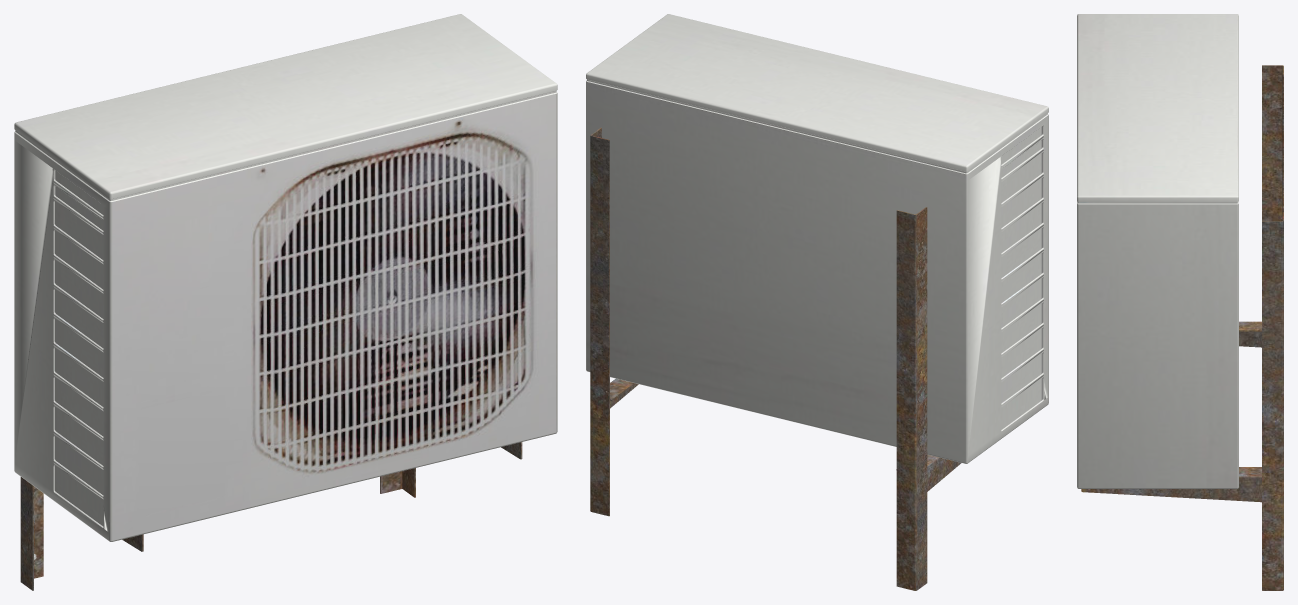
The model's file is OutdoorUnit_Wall_003.fbx.
The picture shows the model from 3 angles, left to right: view 1: azimuth 30°, elevation 25°; view 2: azimuth 150°, elevation 25°; view 3: azimuth 270°, elevation 25°; orthographic projection. The views are drawn at different scales.
Parts seen in each view (by area): view 1: OutdoorUnit_Wall_003; view 2: OutdoorUnit_Wall_003; view 3: OutdoorUnit_Wall_003.
Boxes of the visible parts, left/top/right/bottom form: OutdoorUnit_Wall_003: left=14, top=14, right=557, bottom=590; OutdoorUnit_Wall_003: left=586, top=14, right=1048, bottom=590; OutdoorUnit_Wall_003: left=1077, top=14, right=1283, bottom=590.
Size of the model in its own units: 49.79 by 51.7 by 23.77.
Materials: 1 (1 with a texture image).
